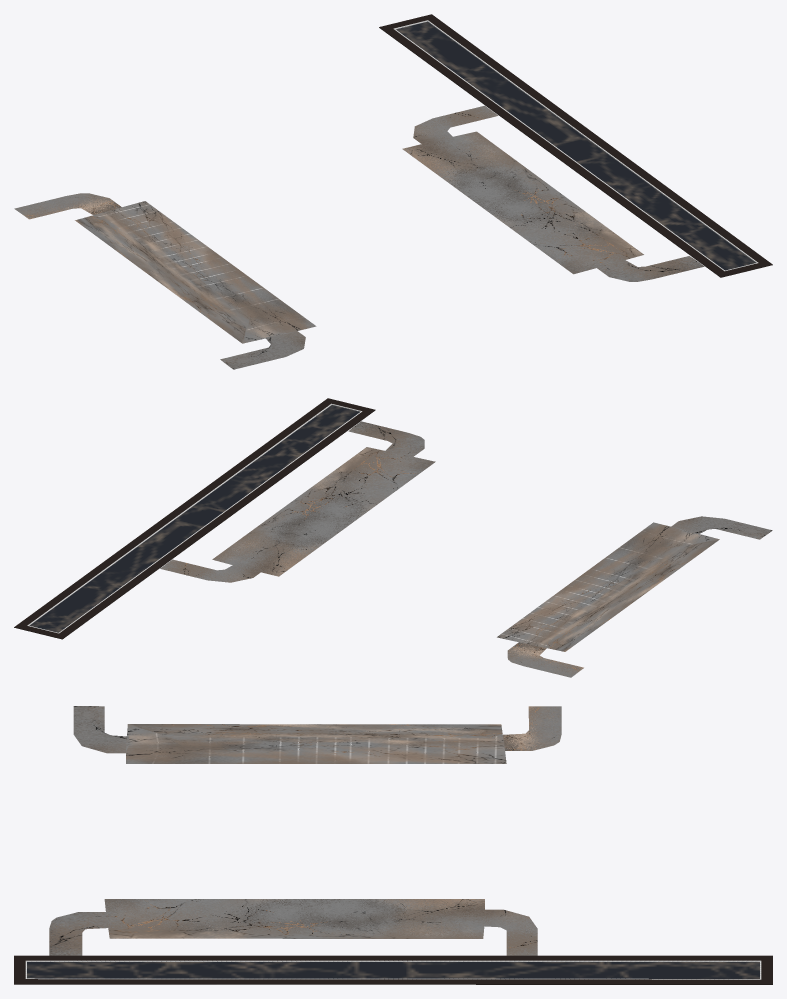
File: Parking_fixed.fbx
3 views of the same model, one above another, from view 1: azimuth 30°, elevation 25°; view 2: azimuth 150°, elevation 25°; view 3: azimuth 270°, elevation 25° (orthographic). The views are drawn at different scales.
Visible parts, largest first — view 1: Road_Section_Separated, polySurface450_GAME_READY.001__PArking_texture; view 2: Road_Section_Separated, polySurface450_GAME_READY.001__PArking_texture; view 3: Road_Section_Separated, polySurface450_GAME_READY.001__PArking_texture.
Boxes of the visible parts, box(x1,y1,x2,y2) form: Road_Section_Separated: box(379, 14, 772, 281); polySurface450_GAME_READY.001__PArking_texture: box(14, 193, 316, 369); Road_Section_Separated: box(14, 398, 435, 639); polySurface450_GAME_READY.001__PArking_texture: box(497, 516, 772, 677); Road_Section_Separated: box(14, 899, 772, 984); polySurface450_GAME_READY.001__PArking_texture: box(73, 706, 561, 763).
Bounding box in the file's own units: 11344 × 25.17 × 13084.
